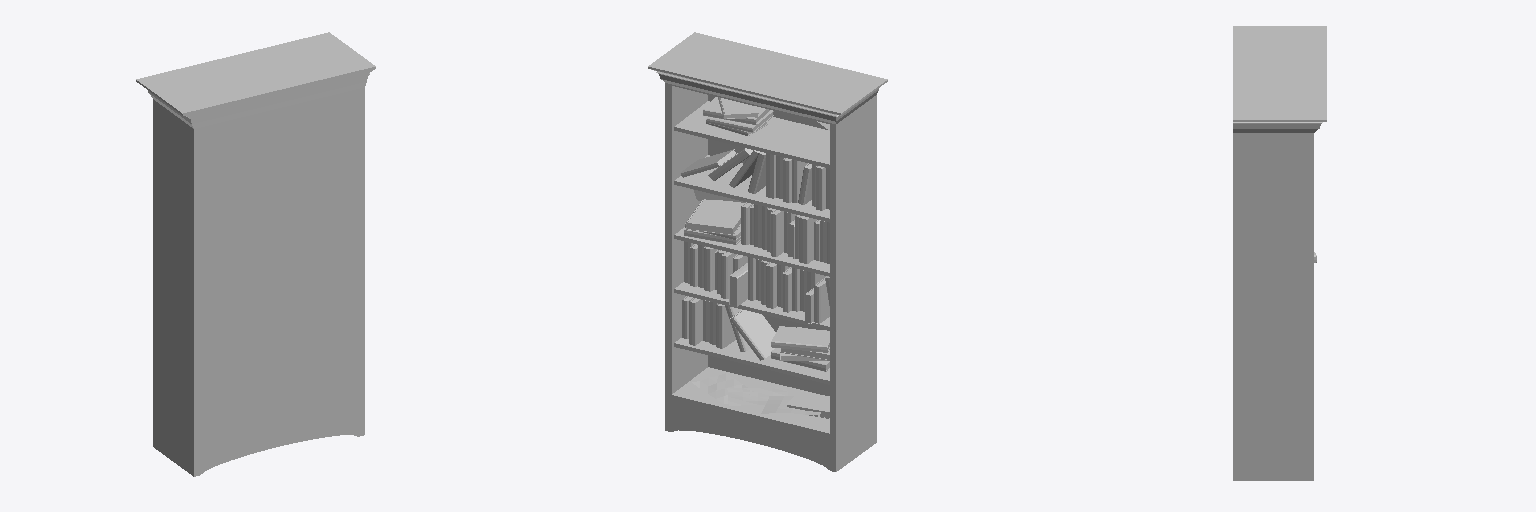
The model's file is bookshelf.obj.
The picture shows the model from 3 angles: view 1: azimuth 30°, elevation 25°; view 2: azimuth 150°, elevation 25°; view 3: azimuth 270°, elevation 25°; orthographic projection.
Parts seen in each view (by area): view 1: Old_Dusty_Bookshelf_dusty_bookshelf_Mat_0; view 2: Old_Dusty_Bookshelf_dusty_bookshelf_Mat_0, Old_Dusty_Bookshelf_Books_dusty_bookshelf_books_Mat_0; view 3: Old_Dusty_Bookshelf_dusty_bookshelf_Mat_0.
Boxes of the visible parts, <box> form: Old_Dusty_Bookshelf_dusty_bookshelf_Mat_0: <box>136,32,375,476</box>; Old_Dusty_Bookshelf_dusty_bookshelf_Mat_0: <box>648,32,887,471</box>; Old_Dusty_Bookshelf_Books_dusty_bookshelf_books_Mat_0: <box>680,97,829,418</box>; Old_Dusty_Bookshelf_dusty_bookshelf_Mat_0: <box>1233,26,1326,480</box>.
Bounding box in the file's own units: 39.88 × 72.14 × 16.71.